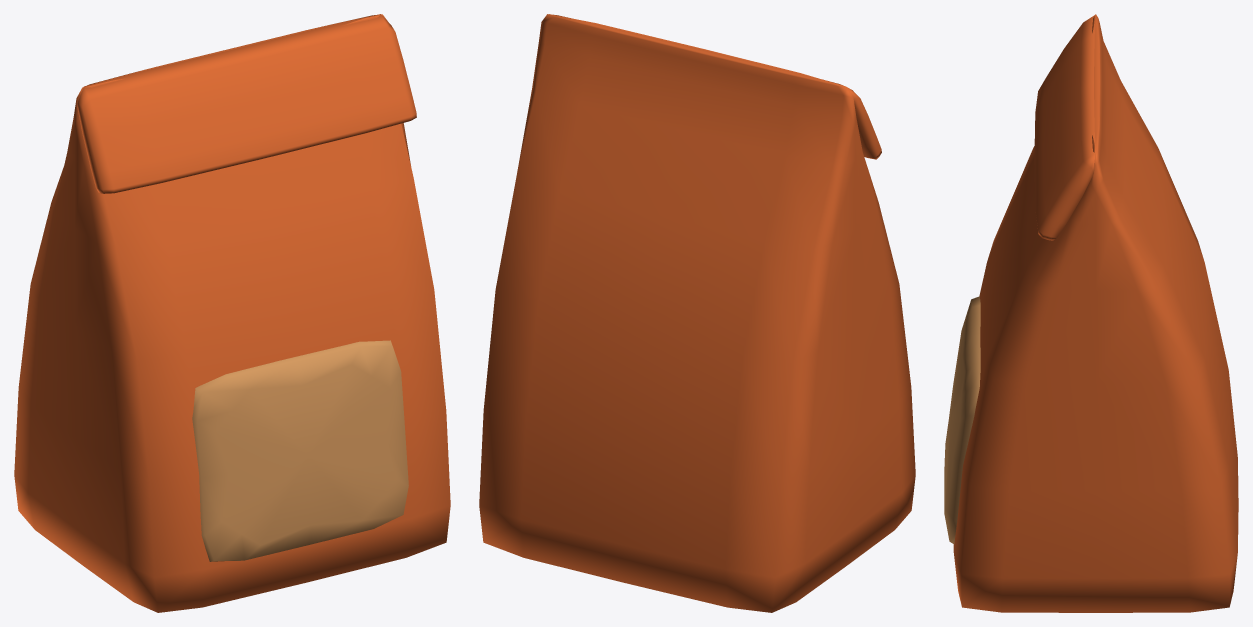
Rendered from SM_coffee_pack_red.fbx.
3 views of the same model, side by side, from view 1: azimuth 30°, elevation 25°; view 2: azimuth 150°, elevation 25°; view 3: azimuth 270°, elevation 25° (orthographic). The views are drawn at different scales.
Parts seen in each view (by area): view 1: SM_coffee_pack_red; view 2: SM_coffee_pack_red; view 3: SM_coffee_pack_red.
Part boxes in pixels (bbox=[...]): SM_coffee_pack_red: bbox=[14, 14, 450, 612]; SM_coffee_pack_red: bbox=[479, 14, 915, 612]; SM_coffee_pack_red: bbox=[944, 14, 1238, 612].
Size of the model in its own units: 26.54 by 39.41 by 22.38.
Materials: 1 (1 with a texture image).
